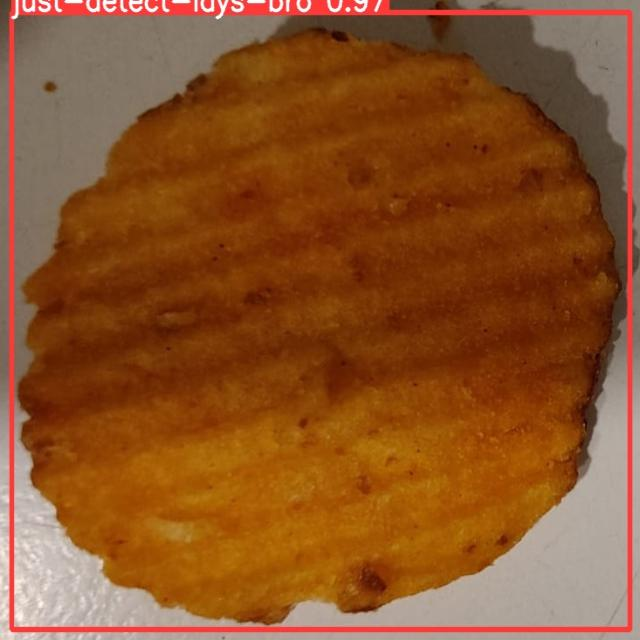Wet Waste: (26, 30, 622, 616)
